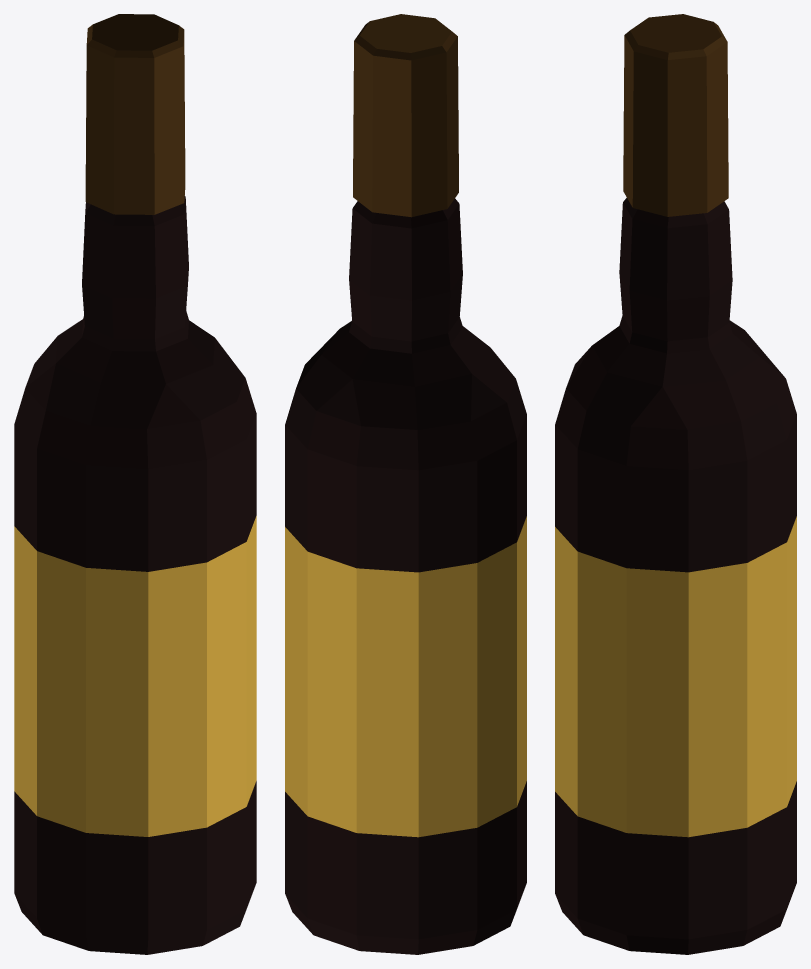
File: Wine 16.fbx
3 views of the same model, side by side, from view 1: azimuth 30°, elevation 25°; view 2: azimuth 150°, elevation 25°; view 3: azimuth 270°, elevation 25° (orthographic).
Parts seen in each view (by area): view 1: Node 0; view 2: Node 0; view 3: Node 0.
Boxes of the visible parts, left/top/right/bottom form: Node 0: left=14, top=14, right=256, bottom=954; Node 0: left=285, top=14, right=526, bottom=954; Node 0: left=555, top=14, right=796, bottom=954.
Bounding box in the file's own units: 0.0691 × 0.2755 × 0.0691.
